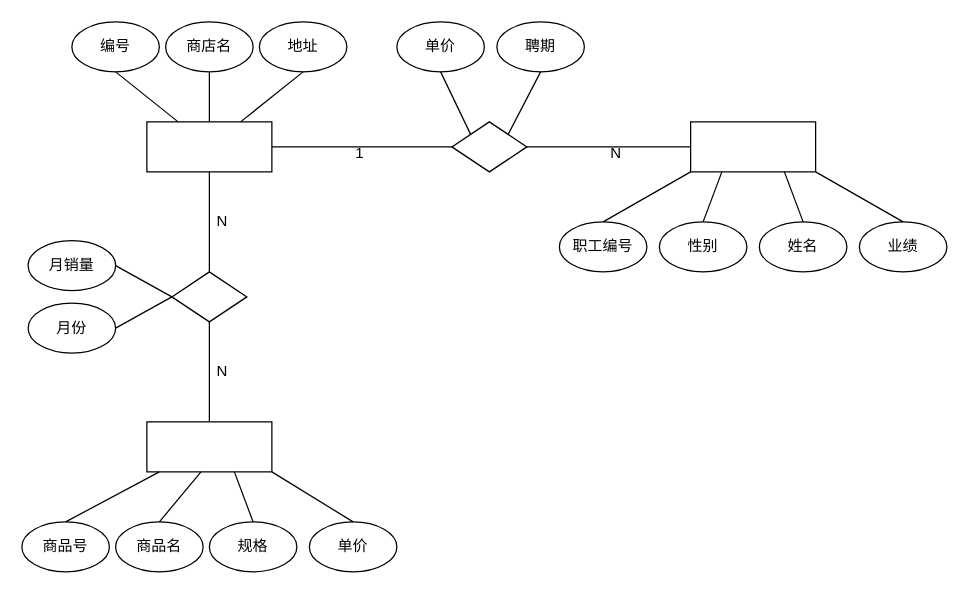
This 969x594 diagram has some shape labels left out. Here are the shapes that lost their labels. From the top down, the box of each, then its label:
(146, 121, 272, 172): 商店
(451, 121, 527, 172): 聘用
(689, 121, 816, 172): 员工
(171, 271, 247, 322): 销售
(146, 421, 272, 472): 商品
